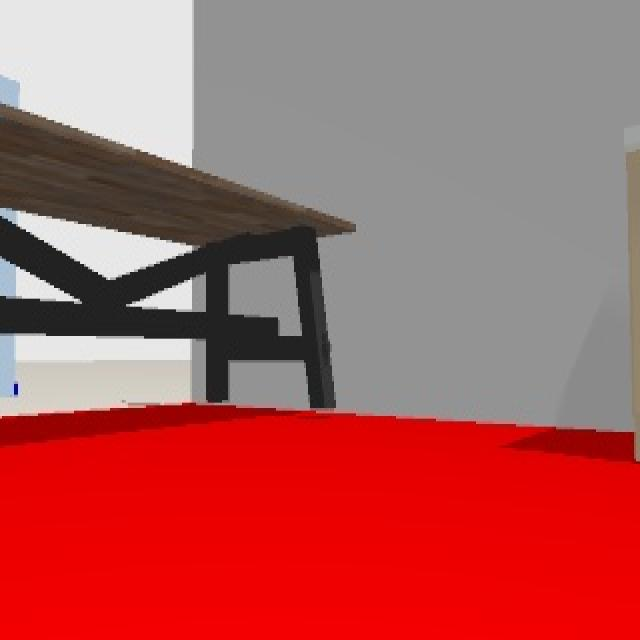dining: (2, 106, 360, 419)
